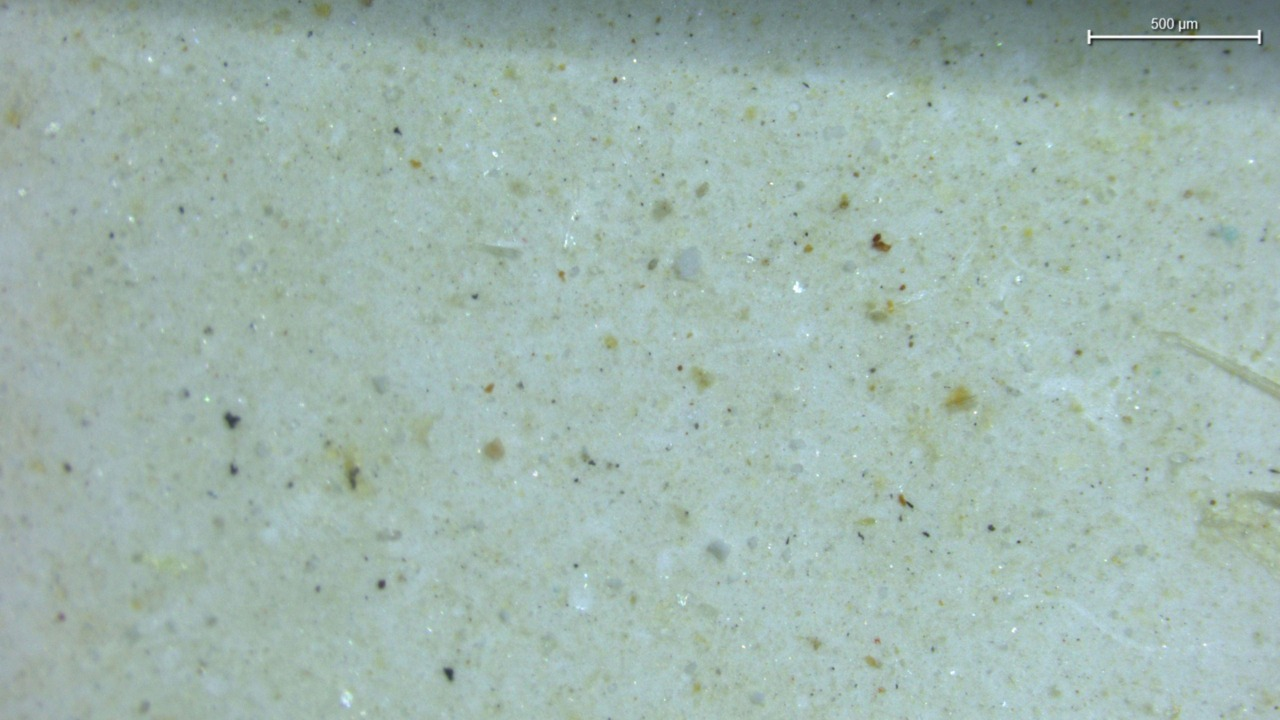microplastic_fragment: (675, 247, 701, 280)
